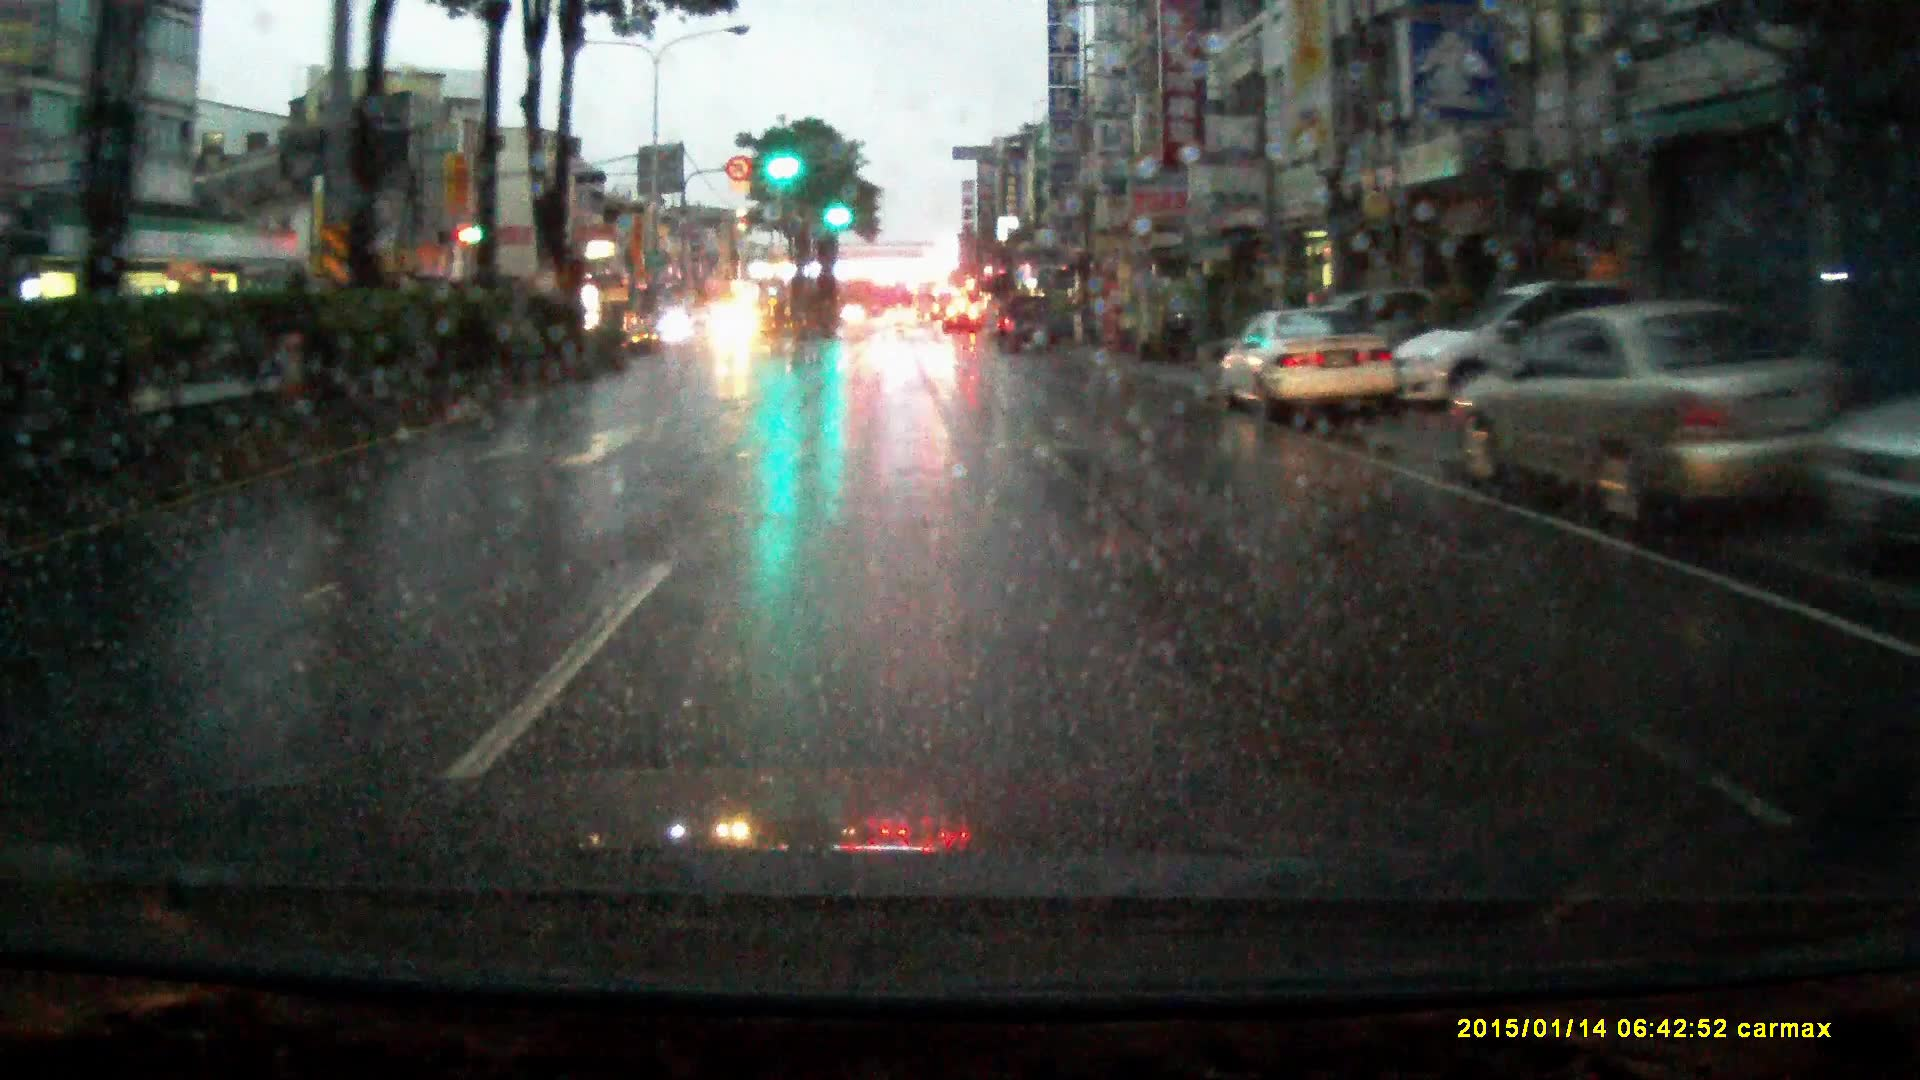vehicle: (1470, 299, 1854, 531), (1389, 281, 1636, 418), (1215, 297, 1396, 426), (1811, 394, 1920, 549), (998, 291, 1058, 347), (702, 301, 764, 352), (655, 309, 699, 340), (914, 282, 942, 324), (945, 303, 982, 334), (885, 307, 916, 327)
